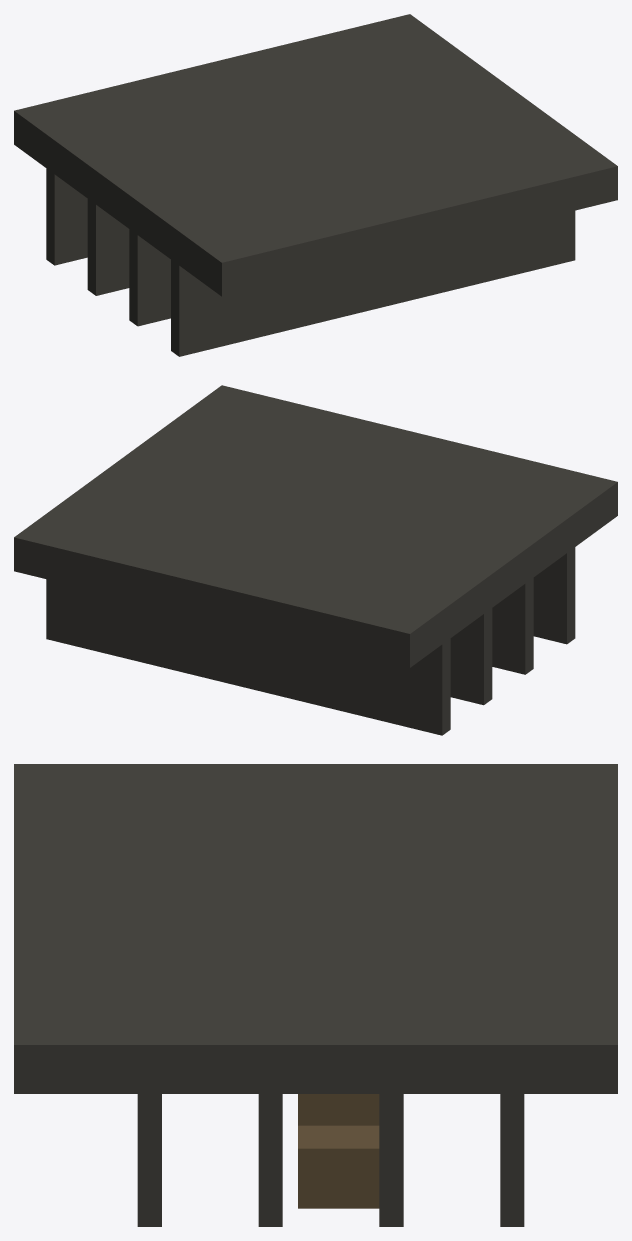
The model's file is shelf_supermarket_loot.obj.
3 renders of one model, top to bottom at view 1: azimuth 30°, elevation 25°; view 2: azimuth 150°, elevation 25°; view 3: azimuth 270°, elevation 25°, orthographic. The views are drawn at different scales.
Bounding box in the file's own units: 2.2 × 0.665 × 2.
